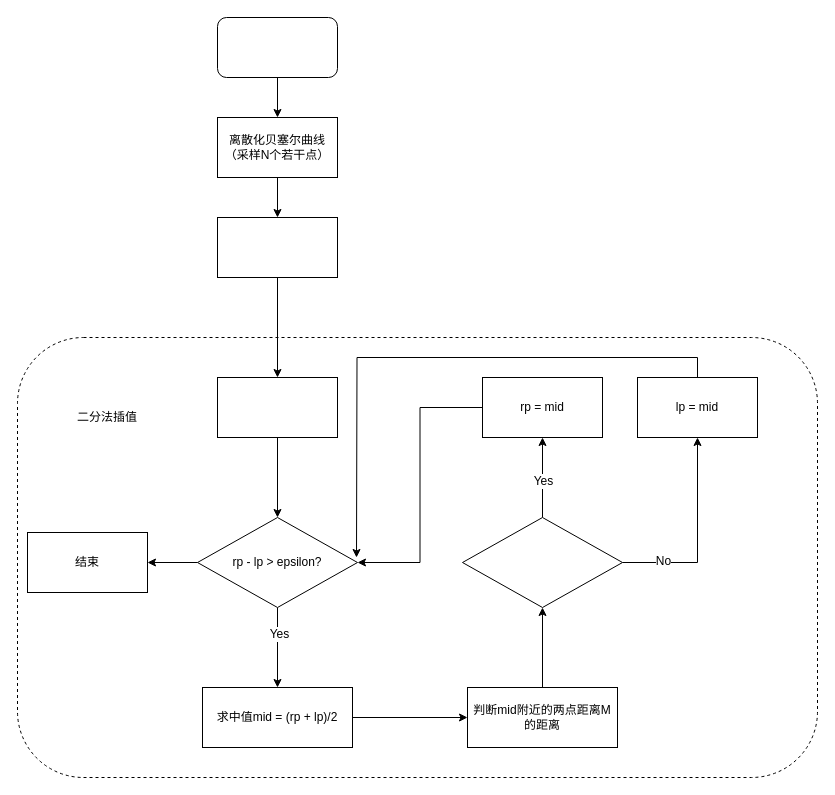
Some shapes in this 835 by 795 pixel diagram are drawn without their labels. The shapes that lost their labels are listed below. From the top down, each one's centre as x and y in pixels, then its label:
(277,47): 开始
(277,247): 在N个点中找到距离点M最近的点I
(277,407): 取点I的左右两个相邻点对应的贝塞尔曲线参数lp, rp
(542,562): mid左边点的距离较近？
